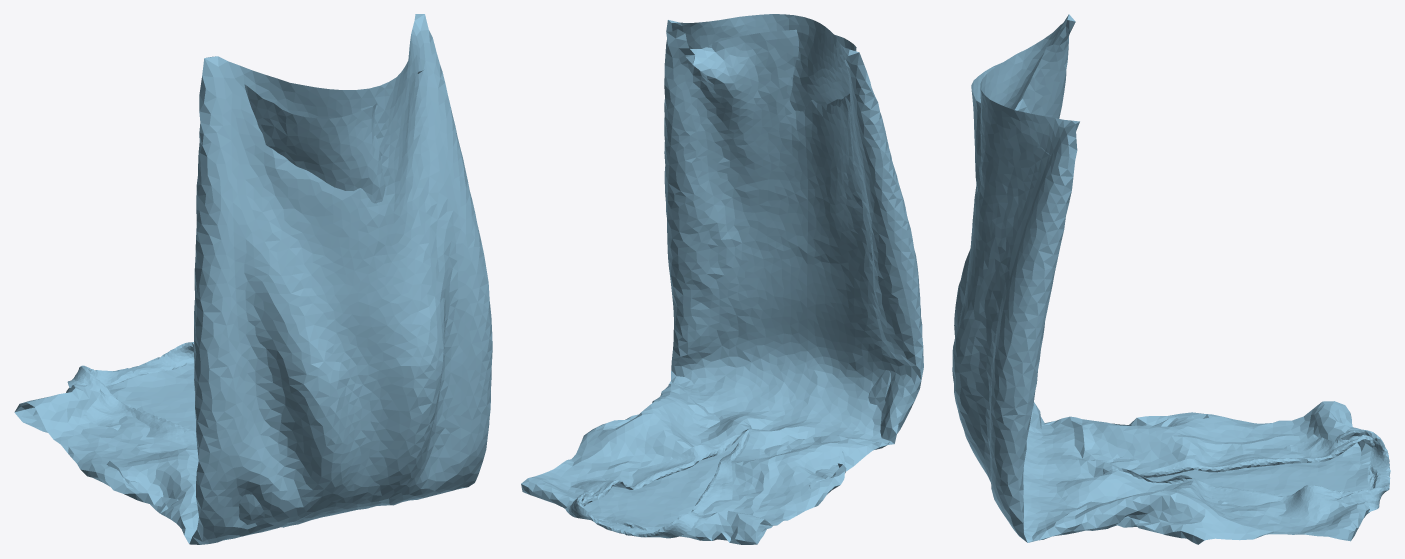
Rendered from frame_12.glb.
3 renders of one model, left to right at view 1: azimuth 30°, elevation 25°; view 2: azimuth 150°, elevation 25°; view 3: azimuth 270°, elevation 25°, orthographic. The views are drawn at different scales.
Parts seen in each view (by area): view 1: frame_12.obj; view 2: frame_12.obj; view 3: frame_12.obj.
Boxes of the visible parts, bbox=[...] form: frame_12.obj: bbox=[14, 14, 492, 544]; frame_12.obj: bbox=[521, 14, 923, 544]; frame_12.obj: bbox=[952, 14, 1390, 544].
Size of the model in its own units: 0.6178 by 0.9427 by 0.8813.
